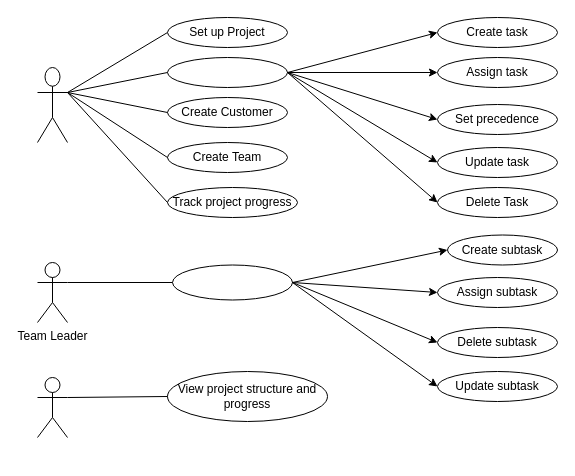
The diagram is 575 pixels wide and 476 high, and some of its shapes have lost their labels. Here are the shapes that lost their labels. From the top down, the centre of each, then its label:
At point (227, 72): "Manage task/jobs".
At point (52, 104): "Administrator".
At point (232, 282): "Manage subtasks".
At point (52, 407): "Customer".
